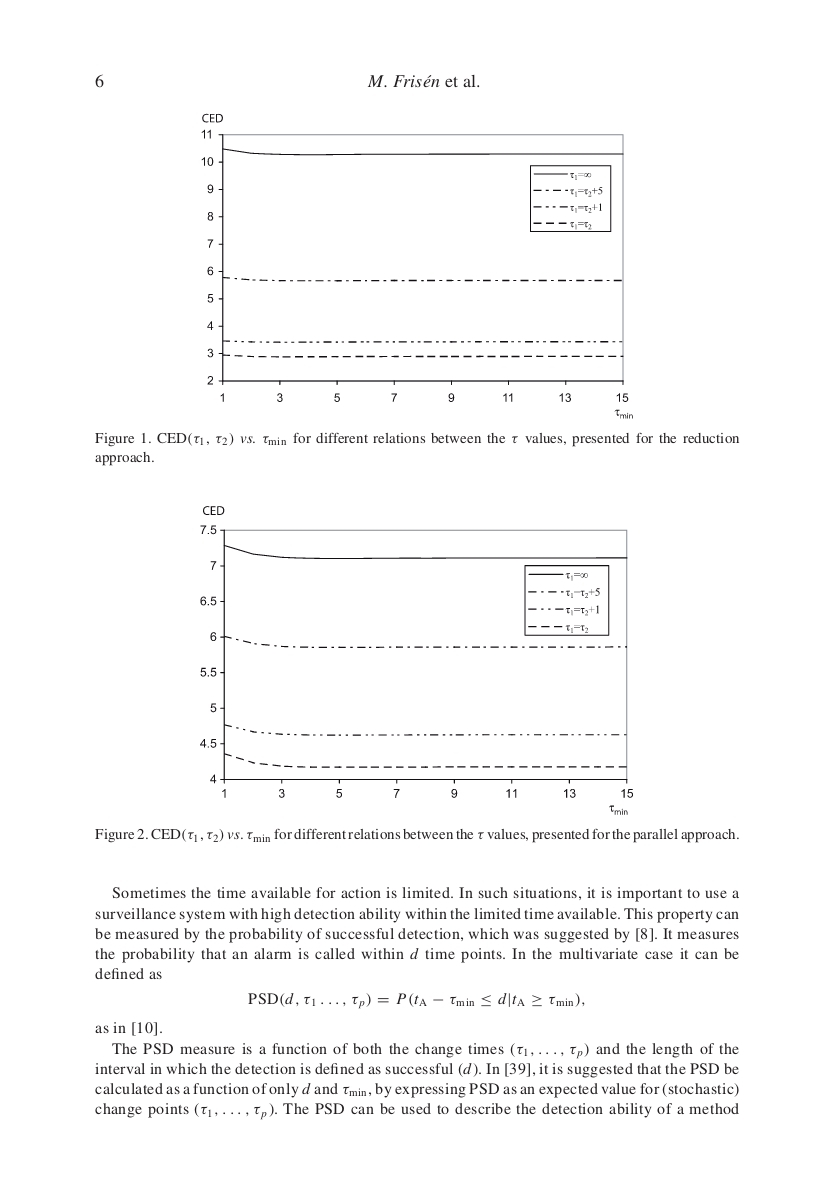figure: (200, 506, 632, 814), (201, 113, 632, 418)
formula: (248, 991, 584, 1009)
